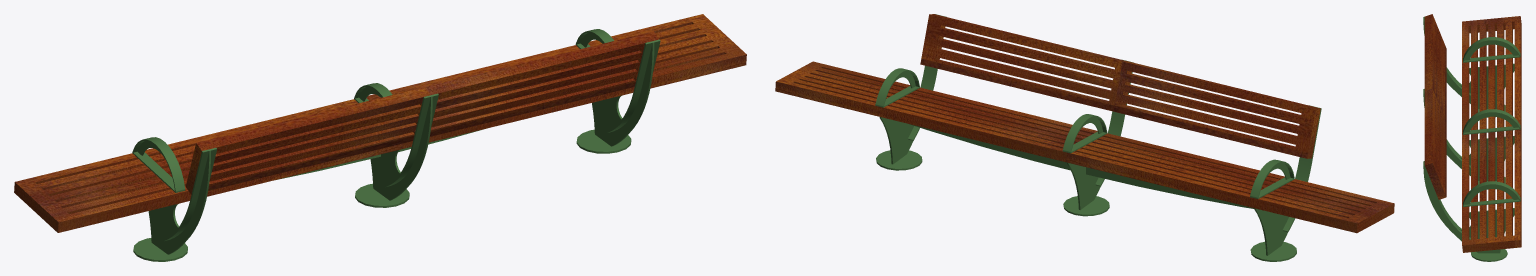
3 renders of one model, left to right at view 1: azimuth 30°, elevation 25°; view 2: azimuth 150°, elevation 25°; view 3: azimuth 270°, elevation 25°, orthographic. The views are drawn at different scales.
Parts seen in each view (by area): view 1: mesh1_mesh1-geometry, mesh5_mesh5-geometry, mesh9_mesh9-geometry, mesh7_mesh7-geometry; view 2: mesh5_mesh5-geometry, mesh1_mesh1-geometry, mesh9_mesh9-geometry, mesh7_mesh7-geometry, mesh3_mesh3-geometry; view 3: mesh5_mesh5-geometry, mesh1_mesh1-geometry, mesh9_mesh9-geometry, mesh7_mesh7-geometry.
Boxes of the visible parts, <box> form: mesh1_mesh1-geometry: <box>185,31,659,194</box>; mesh5_mesh5-geometry: <box>14,14,746,232</box>; mesh9_mesh9-geometry: <box>133,39,660,261</box>; mesh7_mesh7-geometry: <box>132,29,613,192</box>; mesh5_mesh5-geometry: <box>775,61,1394,233</box>; mesh1_mesh1-geometry: <box>920,14,1320,158</box>; mesh9_mesh9-geometry: <box>876,14,1321,261</box>; mesh7_mesh7-geometry: <box>875,68,1294,198</box>; mesh3_mesh3-geometry: <box>909,124,1254,208</box>; mesh5_mesh5-geometry: <box>1462,16,1521,252</box>; mesh1_mesh1-geometry: <box>1424,14,1446,199</box>; mesh9_mesh9-geometry: <box>1423,16,1514,261</box>; mesh7_mesh7-geometry: <box>1463,37,1520,206</box>.
Bounding box in the file's own units: 0.9657 × 0.1882 × 0.1788.
